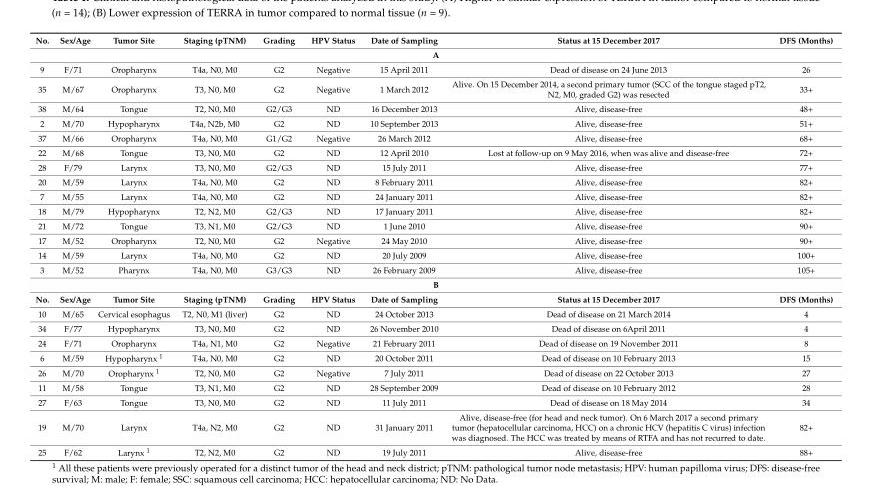table: (34, 34, 832, 457)
table column: (444, 34, 771, 457), (361, 34, 444, 457), (93, 34, 175, 457), (175, 34, 254, 457), (771, 34, 832, 457), (302, 34, 361, 457), (254, 34, 302, 457), (53, 34, 93, 457), (34, 34, 53, 457)
table projected row header: (34, 276, 832, 291), (34, 47, 832, 61)
table row: (34, 409, 832, 443), (34, 76, 832, 101), (34, 364, 832, 380), (34, 61, 832, 76), (34, 115, 832, 130), (34, 144, 832, 159), (34, 159, 832, 174), (34, 188, 832, 203), (34, 203, 832, 218), (34, 232, 832, 247), (34, 247, 832, 262), (34, 276, 832, 291), (34, 291, 832, 306), (34, 320, 832, 335), (34, 349, 832, 364), (34, 394, 832, 409), (34, 47, 832, 61), (34, 101, 832, 115), (34, 130, 832, 144), (34, 174, 832, 188), (34, 218, 832, 232), (34, 262, 832, 276), (34, 306, 832, 320), (34, 335, 832, 349), (34, 380, 832, 394), (34, 443, 832, 457), (34, 34, 832, 47)
